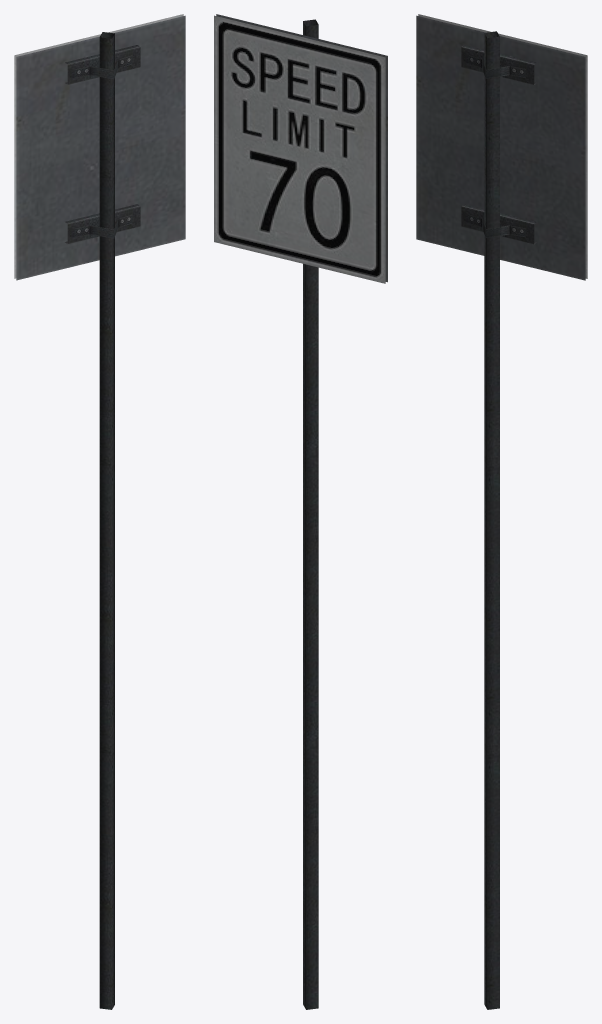
Rendered from Speed_Limit_-_70_mph.glb.
3 renders of one model, left to right at view 1: azimuth 30°, elevation 25°; view 2: azimuth 150°, elevation 25°; view 3: azimuth 330°, elevation 25°, orthographic.
Visible parts, largest first — view 1: Speed_Limit_70mph__LOD1; view 2: Speed_Limit_70mph__LOD1; view 3: Speed_Limit_70mph__LOD1.
Boxes of the visible parts, box(x1,y1,x2,y2) form: Speed_Limit_70mph__LOD1: box(14, 14, 185, 1009); Speed_Limit_70mph__LOD1: box(214, 14, 387, 1009); Speed_Limit_70mph__LOD1: box(416, 14, 587, 1009).
Size of the model in its own units: 0.546 by 2.99 by 0.0909.
Materials: 1 (1 with a texture image).
